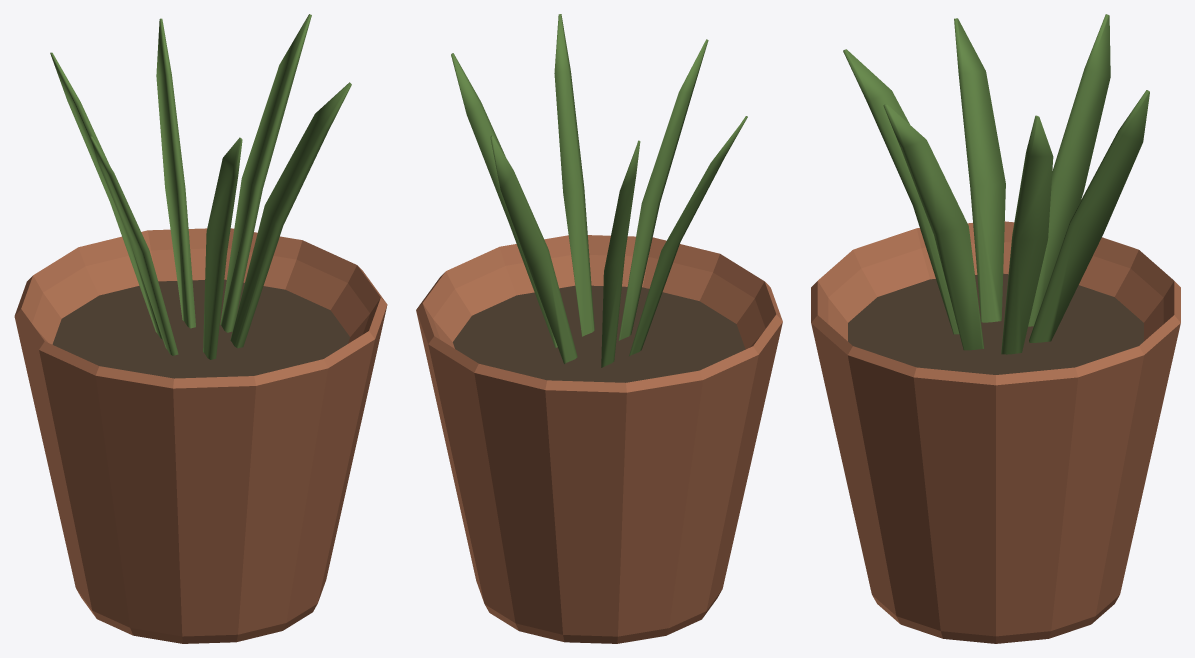
Rendered from small_potted_plant.glb.
The picture shows the model from 3 angles, left to right: view 1: azimuth 30°, elevation 25°; view 2: azimuth 150°, elevation 25°; view 3: azimuth 270°, elevation 25°; orthographic projection. The views are drawn at different scales.
Parts seen in each view (by area): view 1: small_potted_plant; view 2: small_potted_plant; view 3: small_potted_plant.
Boxes of the visible parts, left/top/right/bottom form: small_potted_plant: left=14, top=14, right=387, bottom=643; small_potted_plant: left=416, top=14, right=782, bottom=643; small_potted_plant: left=811, top=14, right=1180, bottom=643.
Size of the model in its own units: 0.1399 by 0.22 by 0.1364.
